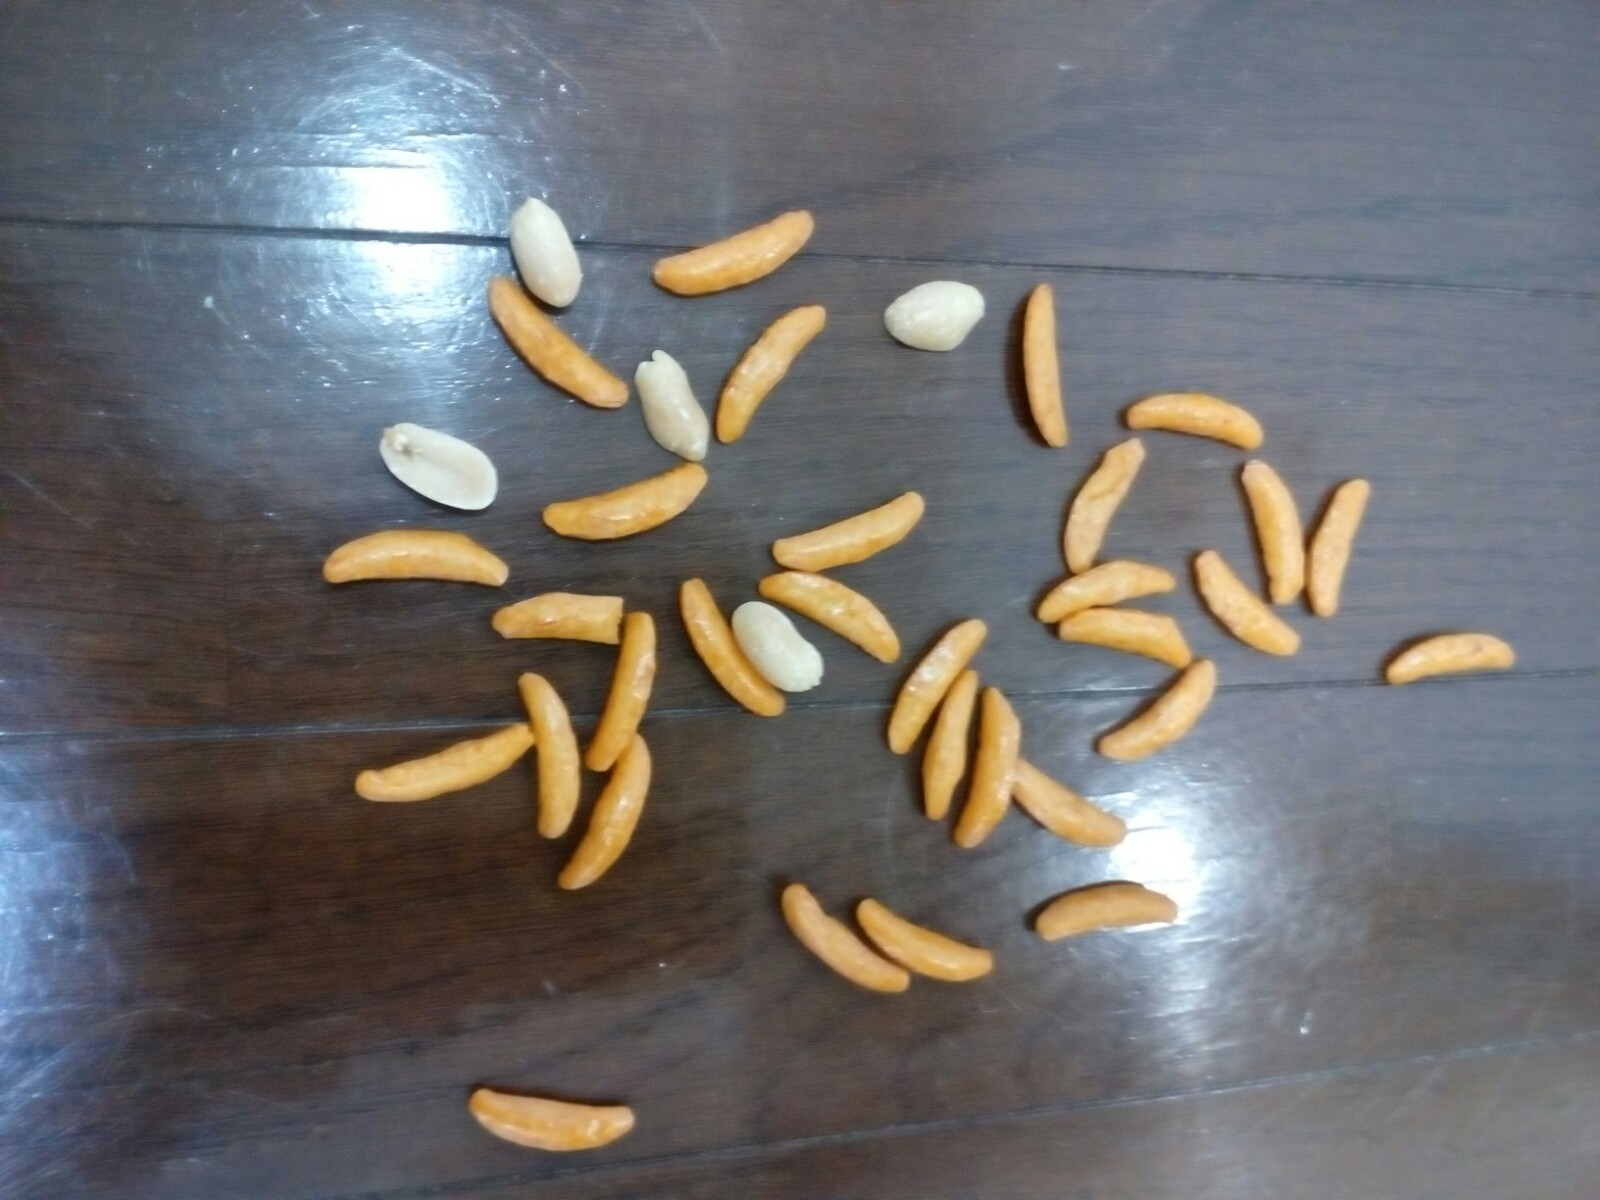peanut: (716, 587, 842, 705), (368, 415, 506, 512), (500, 184, 592, 316), (878, 268, 995, 363), (632, 337, 713, 469)
